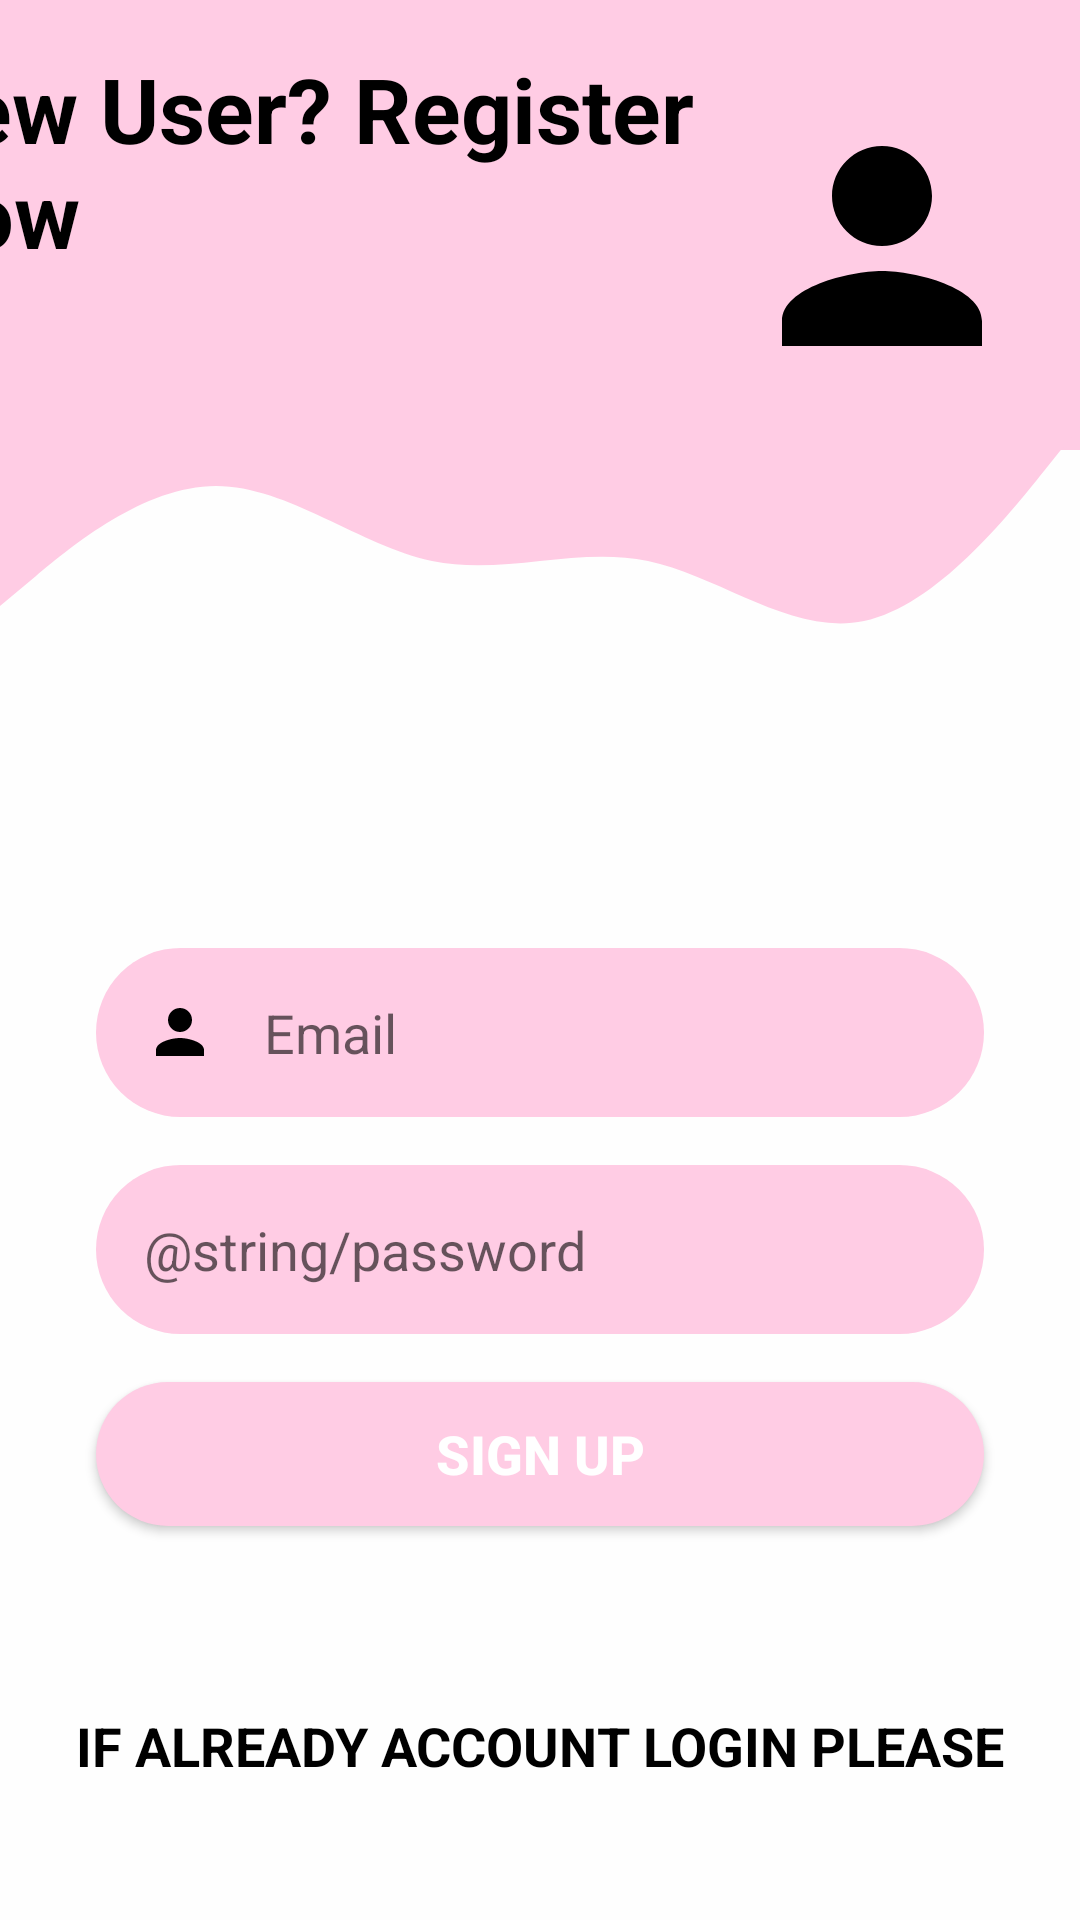

Named icons in this screenshot (1080 × 1920) and their centers, [x,y]:
person: [882,246]
